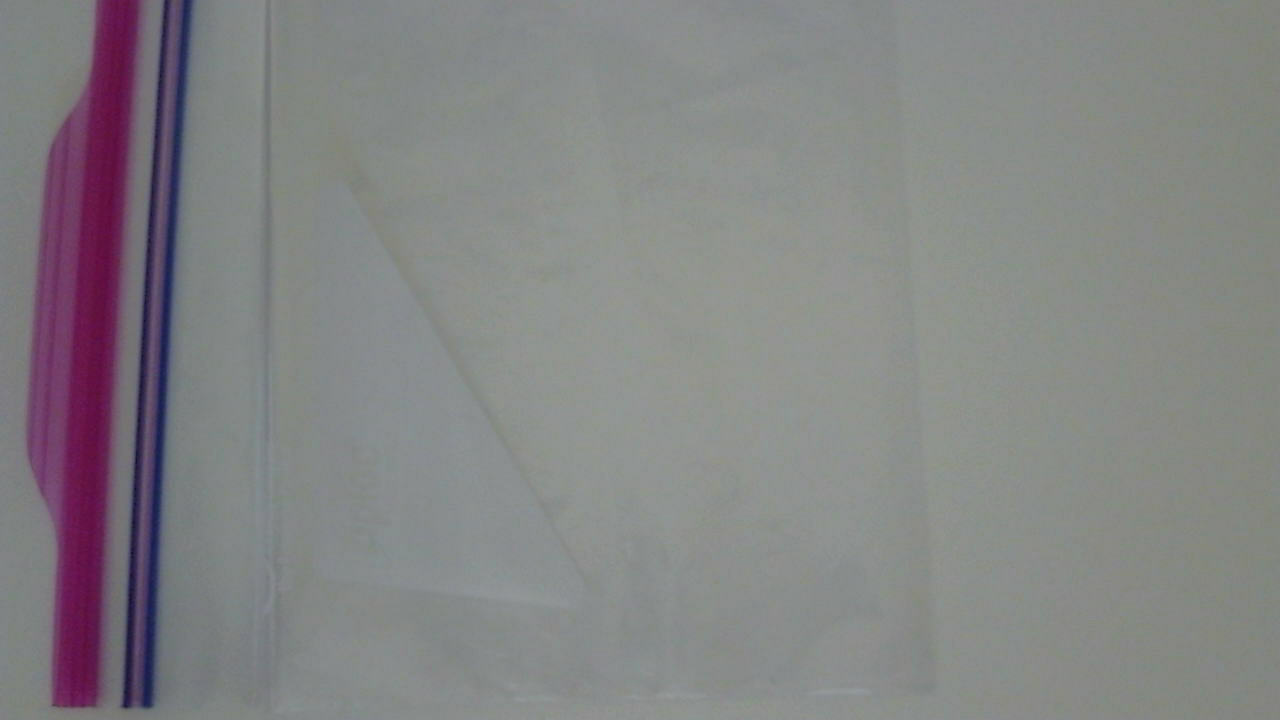Plastic Bag: (25, 11, 957, 720)
